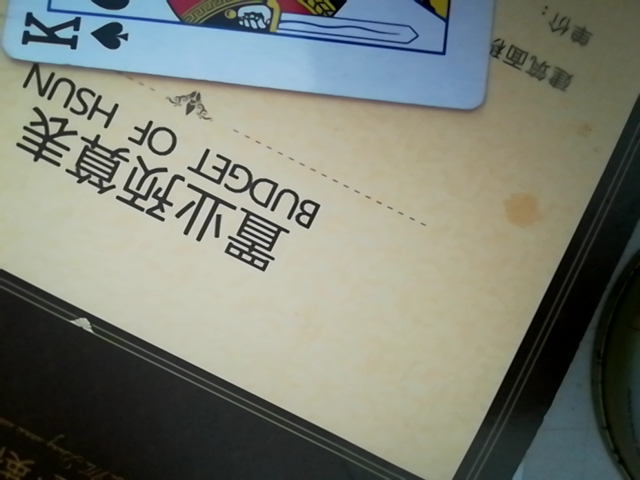ht k: (14, 0, 522, 104)
